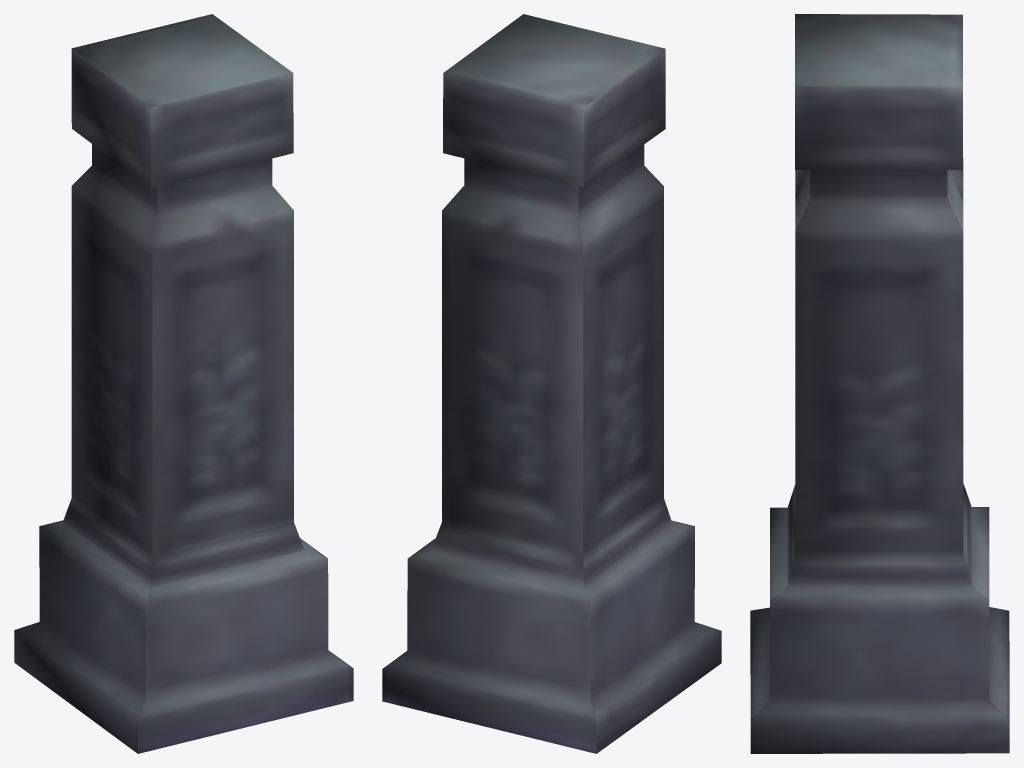
The model's file is Map02_Item_02.FBX.
3 renders of one model, left to right at view 1: azimuth 30°, elevation 25°; view 2: azimuth 150°, elevation 25°; view 3: azimuth 270°, elevation 25°, orthographic. The views are drawn at different scales.
Visible parts, largest first — view 1: Map02_Item_02; view 2: Map02_Item_02; view 3: Map02_Item_02.
Boxes of the visible parts, left/top/right/bottom form: Map02_Item_02: left=14, top=14, right=353, bottom=753; Map02_Item_02: left=382, top=14, right=721, bottom=753; Map02_Item_02: left=750, top=14, right=1009, bottom=753.
Bounding box in the file's own units: 23.16 × 63.73 × 23.09.
